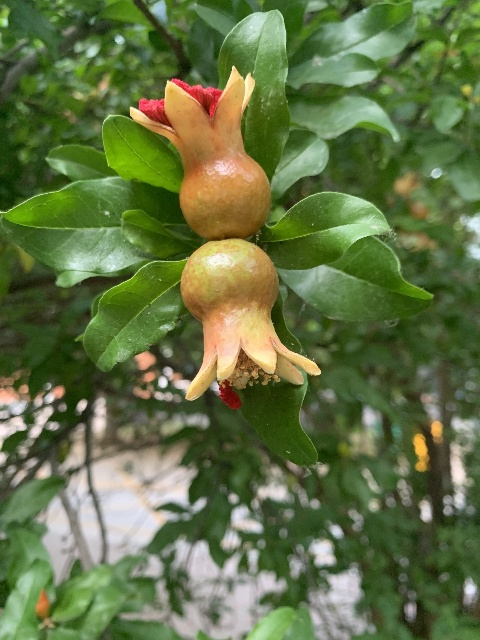early-fruit: (128, 64, 269, 242), (179, 238, 321, 411)
